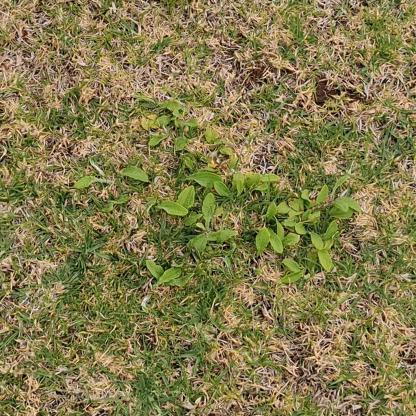Weeds: (73, 96, 362, 287)
